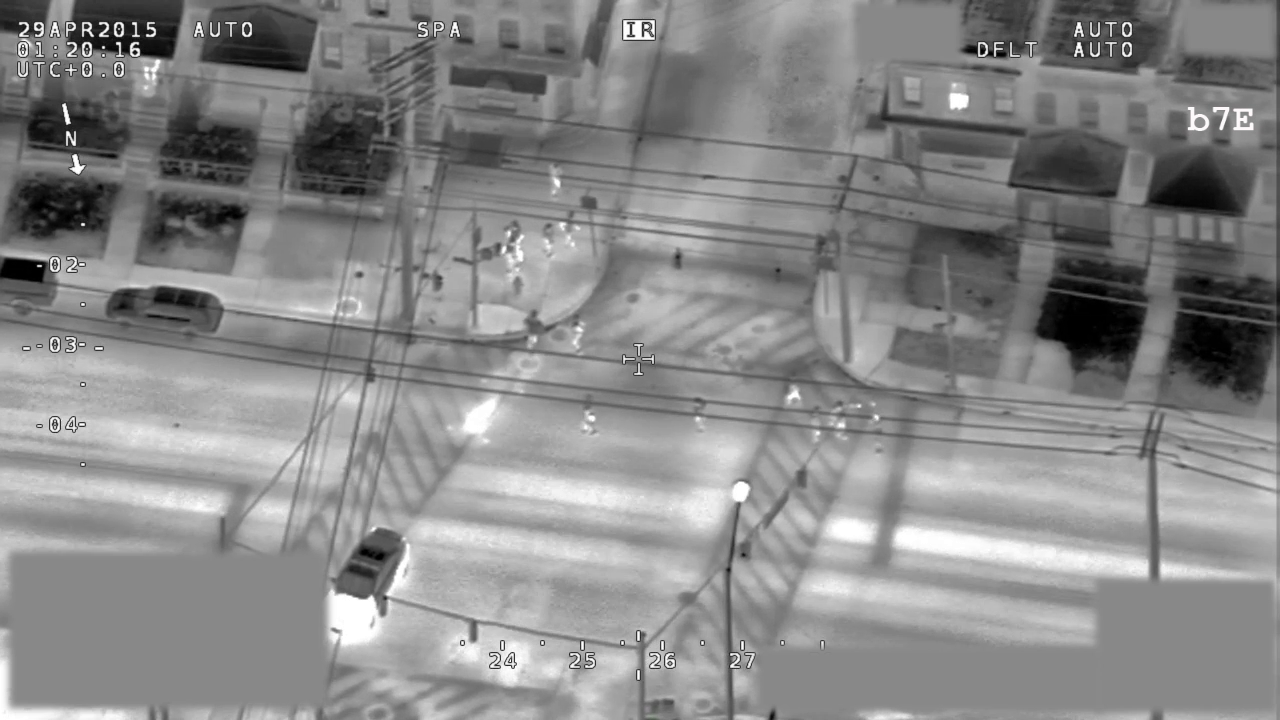vehicle: (327, 525, 415, 646), (103, 280, 227, 341), (1, 256, 60, 323)
